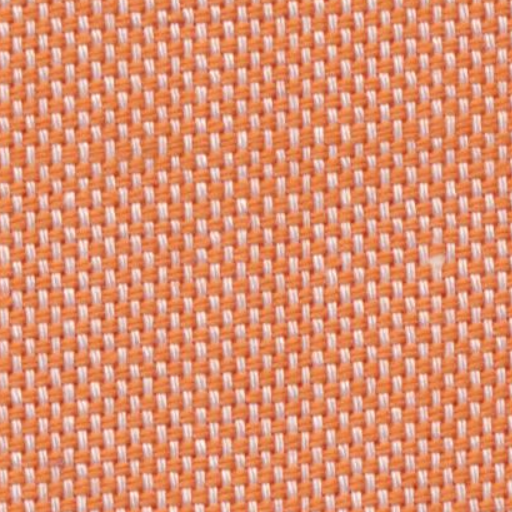TuoSha: (14, 100, 498, 190)
